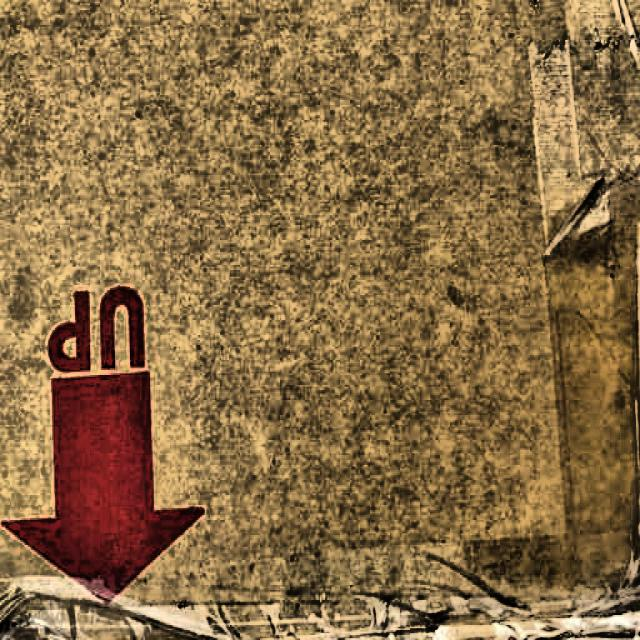cardboard: (8, 7, 628, 631)
